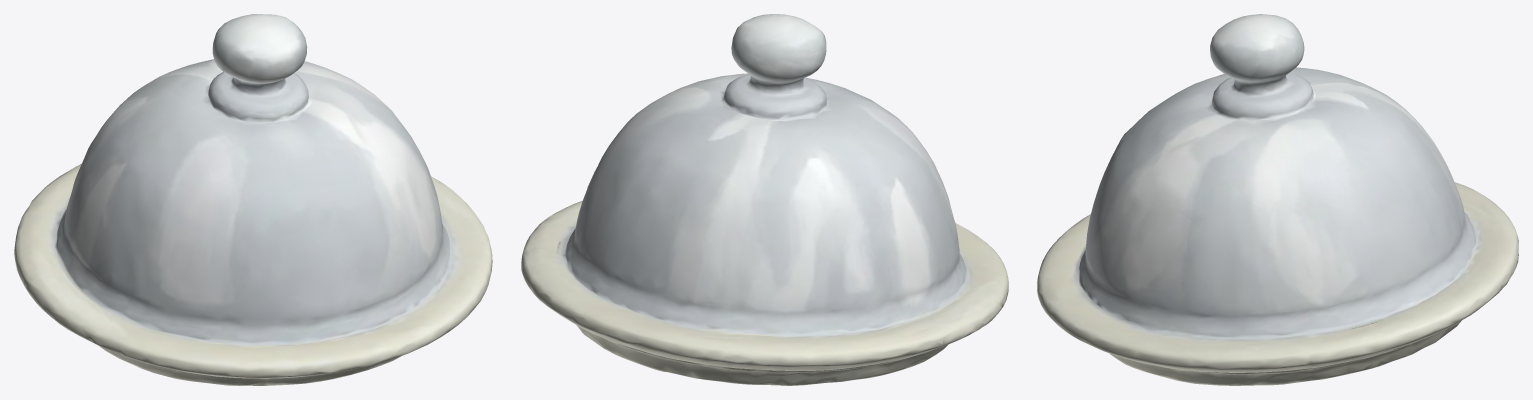
Rendered from cloche.glb.
3 views of the same model, side by side, from view 1: azimuth 30°, elevation 25°; view 2: azimuth 150°, elevation 25°; view 3: azimuth 270°, elevation 25° (orthographic).
Visible parts, largest first — view 1: world; view 2: world; view 3: world.
Boxes of the visible parts, x1=… form: world: x1=14, y1=14, x2=492, y2=385; world: x1=521, y1=14, x2=1008, y2=385; world: x1=1037, y1=14, x2=1518, y2=385.
Bounding box in the file's own units: 0.907 × 0.7095 × 0.9078.
1 material, 1 textured.
